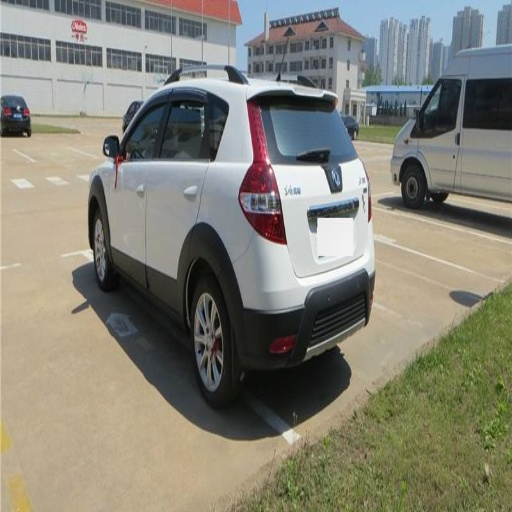back_bumper: (222, 225, 377, 368)
back_glass: (266, 95, 351, 157)
back_left_door: (147, 85, 210, 299)
back_left_light: (239, 99, 286, 243)
